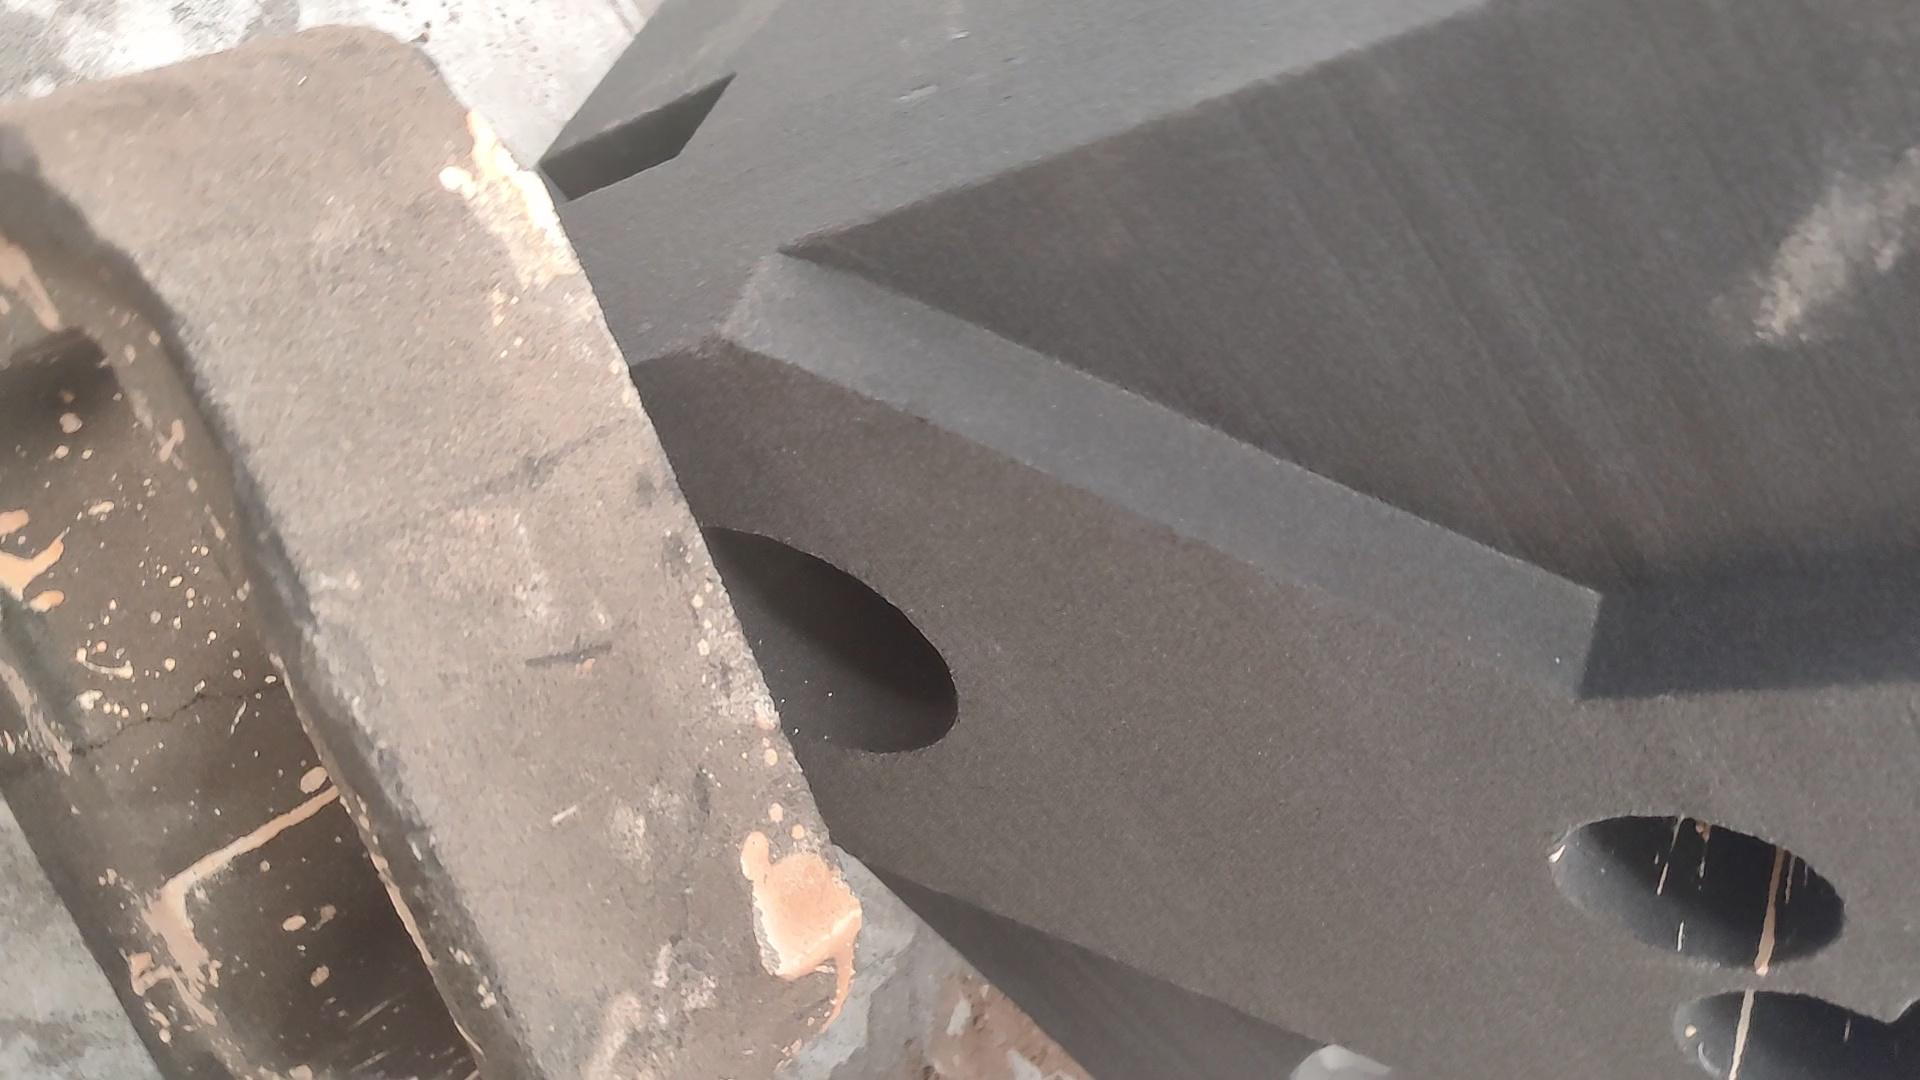pouring hole: (680, 524, 959, 760)
